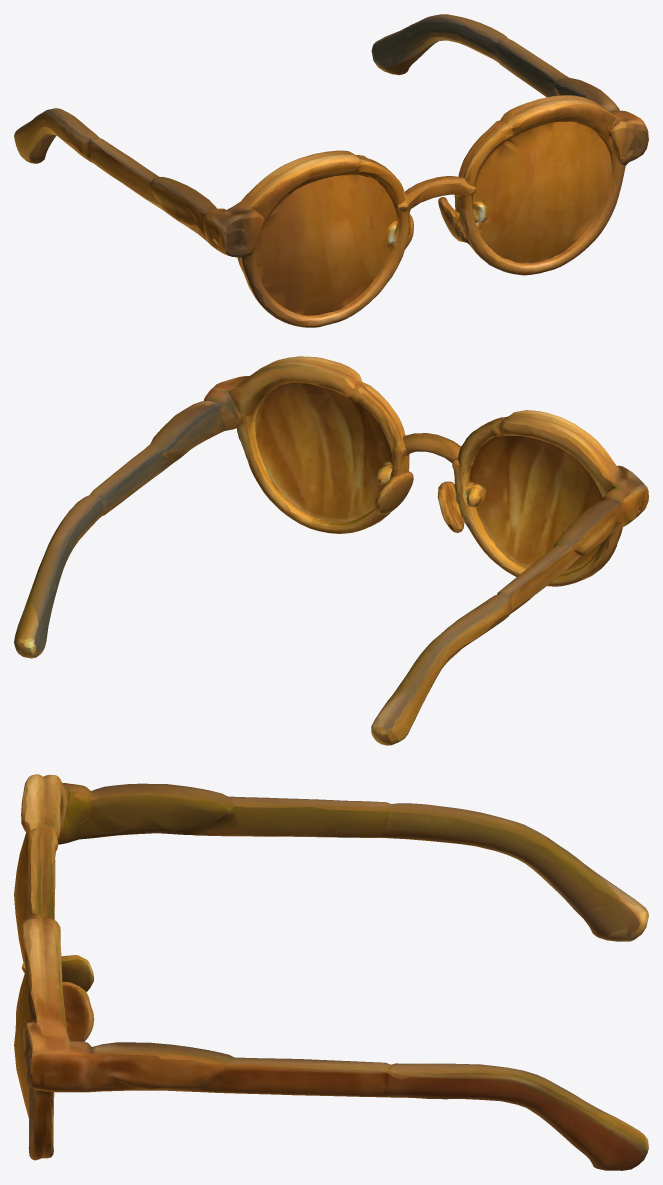
Rendered from glasses-gold.glb.
3 renders of one model, top to bottom at view 1: azimuth 30°, elevation 25°; view 2: azimuth 150°, elevation 25°; view 3: azimuth 270°, elevation 25°, orthographic. The views are drawn at different scales.
Visible parts, largest first — view 1: geometry_0; view 2: geometry_0; view 3: geometry_0.
Part boxes in pixels (box(x1,y1,x2,y2)): geometry_0: box(14, 14, 648, 327); geometry_0: box(14, 356, 648, 745); geometry_0: box(14, 774, 648, 1170).
Bounding box in the file's own units: 0.145 × 0.0544 × 0.1423.
Materials: 1 (1 with a texture image).
